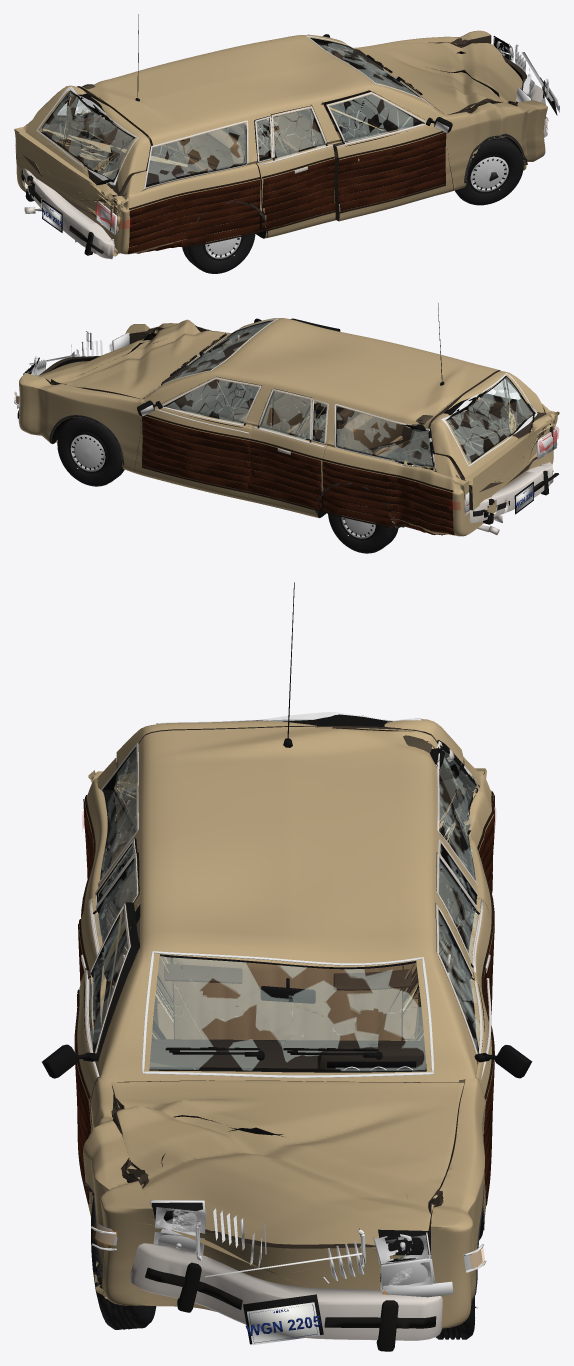
Rendered from wagon82_front_corner_R_d1_lod1.glb.
3 renders of one model, top to bottom at view 1: azimuth 30°, elevation 25°; view 2: azimuth 150°, elevation 25°; view 3: azimuth 270°, elevation 25°, orthographic. The views are drawn at different scales.
Visible parts, largest first — view 1: Body, Trim, Tailgate, Interior, Hood, Trim_FR, Trim_RR, Glass, Glass_Tailgate, Door_FR, Wheel_FR_mesh, Bumper_R (+5 smaller); view 2: Body, Trim, Interior, Trim_FL, Tailgate, Hood, Trim_RL, Glass, Glass_Tailgate, Wheel_FL_mesh, Door_FL, Glass_FL (+7 smaller); view 3: Body, Hood, Interior, Glass, Bumper_F, Ends, Tailgate, Trim, Door_FR, Trim_FR, Trim_FL, Door_FL (+10 smaller).
Part boxes in pixels (x1=…): Body: x1=14, y1=30, x2=547, y2=256; Trim: x1=68, y1=14, x2=527, y2=253; Tailgate: x1=16, y1=85, x2=150, y2=231; Interior: x1=64, y1=49, x2=418, y2=195; Hood: x1=355, y1=42, x2=522, y2=114; Trim_FR: x1=327, y1=92, x2=452, y2=213; Trim_RR: x1=255, y1=106, x2=335, y2=230; Glass: x1=57, y1=35, x2=433, y2=188; Glass_Tailgate: x1=36, y1=86, x2=138, y2=185; Door_FR: x1=323, y1=90, x2=453, y2=221; Wheel_FR_mesh: x1=455, y1=137, x2=523, y2=205; Bumper_R: x1=21, y1=168, x2=114, y2=259; Body: x1=19, y1=318, x2=559, y2=536; Trim: x1=49, y1=303, x2=507, y2=535; Interior: x1=161, y1=341, x2=507, y2=477; Trim_FL: x1=137, y1=377, x2=261, y2=493; Tailgate: x1=430, y1=371, x2=554, y2=510; Hood: x1=38, y1=319, x2=229, y2=398; Trim_RL: x1=247, y1=389, x2=328, y2=510; Glass: x1=154, y1=318, x2=516, y2=472; Glass_Tailgate: x1=440, y1=373, x2=537, y2=466; Wheel_FL_mesh: x1=57, y1=417, x2=124, y2=486; Door_FL: x1=134, y1=376, x2=261, y2=500; Glass_FL: x1=163, y1=377, x2=258, y2=427; Body: x1=83, y1=727, x2=494, y2=1328; Hood: x1=111, y1=1080, x2=464, y2=1249; Interior: x1=150, y1=956, x2=425, y2=1070; Glass: x1=101, y1=740, x2=479, y2=1077; Bumper_F: x1=129, y1=1243, x2=442, y2=1351; Ends: x1=91, y1=806, x2=486, y2=1345; Tailgate: x1=116, y1=714, x2=464, y2=876; Trim: x1=81, y1=582, x2=494, y2=1301; Door_FR: x1=75, y1=902, x2=139, y2=1216; Trim_FR: x1=42, y1=903, x2=130, y2=1203; Trim_FL: x1=436, y1=904, x2=532, y2=1205; Door_FL: x1=435, y1=903, x2=493, y2=1217.
Bounding box in the file's own units: 4.94 × 2.18 × 2.14.
Materials: 35 (6 with a texture image).
